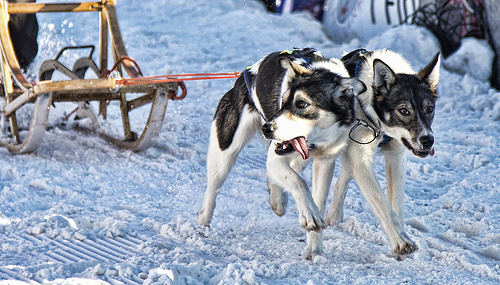dog: (200, 48, 366, 262), (343, 49, 462, 256)
